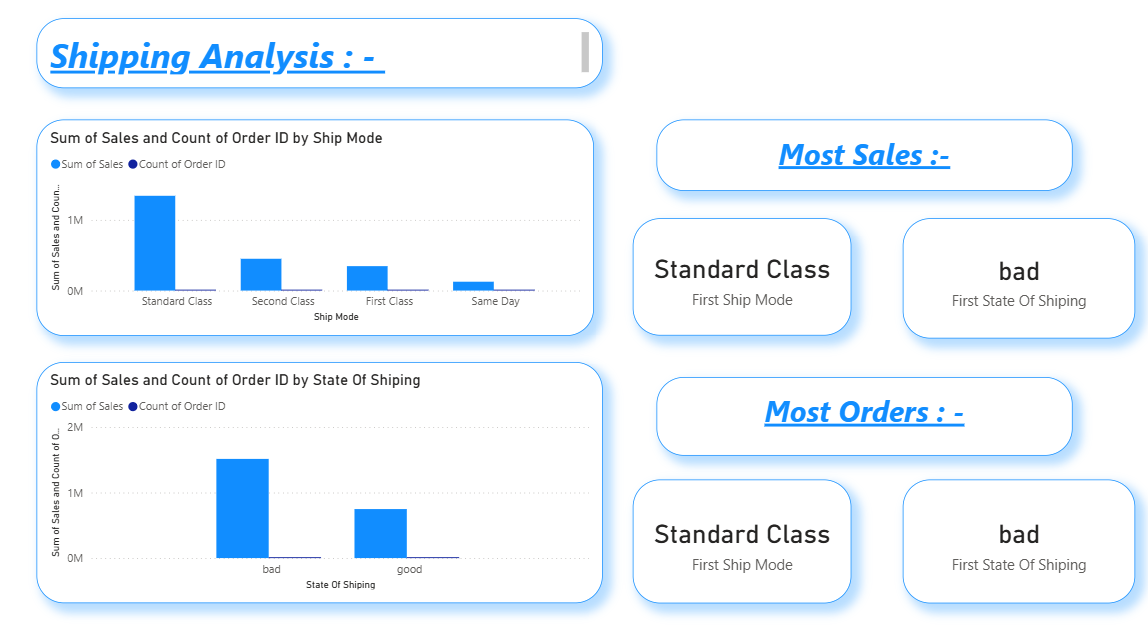

The page's visual inventory and layout, read from the dashboard file:
{"tool":"powerbi","page":{"name":"Page 8","canvas":[1280,720],"ordinal":7},"visuals":[{"type":"textbox","box":[52.1,28.8,621.6,76.8],"z":0},{"type":"clusteredColumnChart","fields":{"Category":["train.Ship Mode"],"Y":["Sum(train.Sales)","CountNonNull(train.Order ID)"]},"box":[52.1,140,612,237.4],"z":1000},{"type":"clusteredColumnChart","fields":{"Category":["train.State Of Shiping"],"Y":["Sum(train.Sales)","CountNonNull(train.Order ID)"]},"box":[52.1,406.2,621.6,264.8],"z":2000},{"type":"textbox","box":[732.8,140,456.9,78.2],"z":3000},{"type":"card","fields":{"Values":["Min(train.Ship Mode)"]},"box":[706.7,248.4,240.1,129],"z":4000},{"type":"card","fields":{"Values":["Min(train.State Of Shiping)"]},"box":[1003.1,248.4,255.2,131.7],"z":5000},{"type":"textbox","box":[732.8,422.6,456.9,86.4],"z":6000},{"type":"card","fields":{"Values":["Min(train.Ship Mode)"]},"box":[706.7,535.2,240.1,135.8],"z":9000},{"type":"card","fields":{"Values":["Min(train.State Of Shiping)"]},"box":[1003.1,535.2,255.2,135.8],"z":10000}]}

Visuals, with their boxes in screenshot pixels (x1, y1, x2, y2), scaled from the page's 1280x720 canvas onto the 1148x641 screenshot:
textbox: 47:26:604:94
clusteredColumnChart - train.Ship Mode x Sum(train.Sales): 47:125:596:336
clusteredColumnChart - train.State Of Shiping x Sum(train.Sales): 47:362:604:597
textbox: 657:125:1067:194
card - Min(train.Ship Mode): 634:221:849:336
card - Min(train.State Of Shiping): 900:221:1129:338
textbox: 657:376:1067:453
card - Min(train.Ship Mode): 634:476:849:597
card - Min(train.State Of Shiping): 900:476:1129:597
